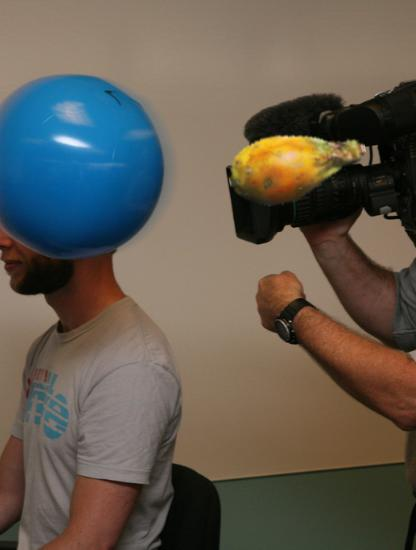Cactus: (228, 97, 368, 237)
